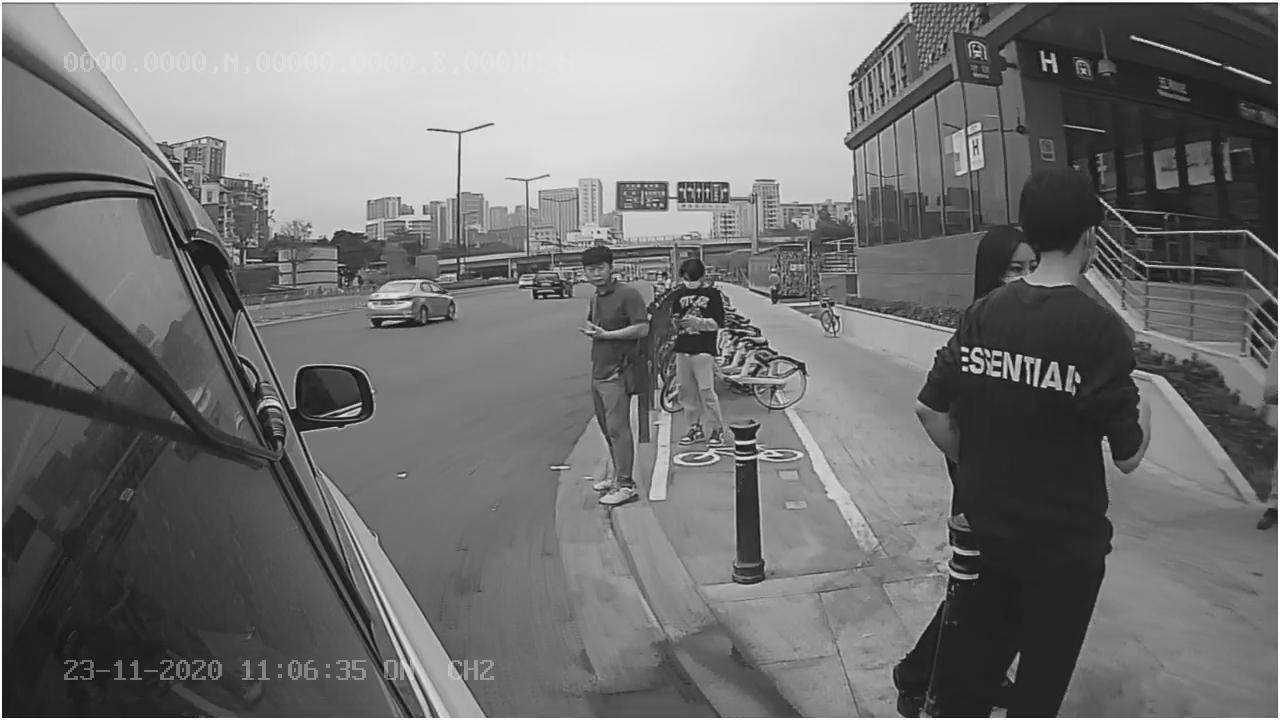person: (563, 247, 648, 510)
